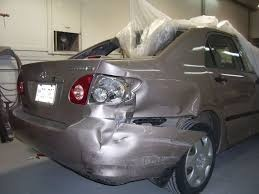Broken-glass: (83, 77, 140, 102)
Dent: (78, 67, 198, 185)
